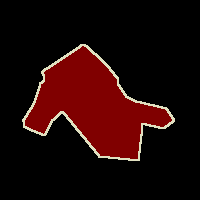tie: (23, 44, 174, 160)
